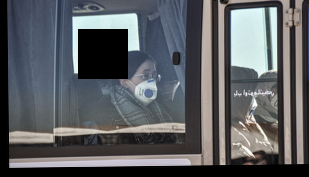with_mask: (131, 66, 159, 107)
